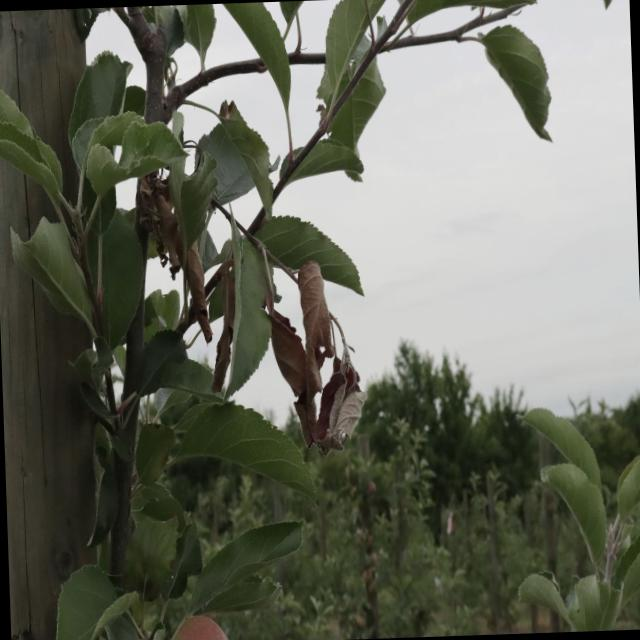-FireBlight-: (292, 253, 369, 452), (160, 176, 218, 344), (207, 222, 248, 376), (270, 296, 312, 404), (139, 148, 157, 252)
